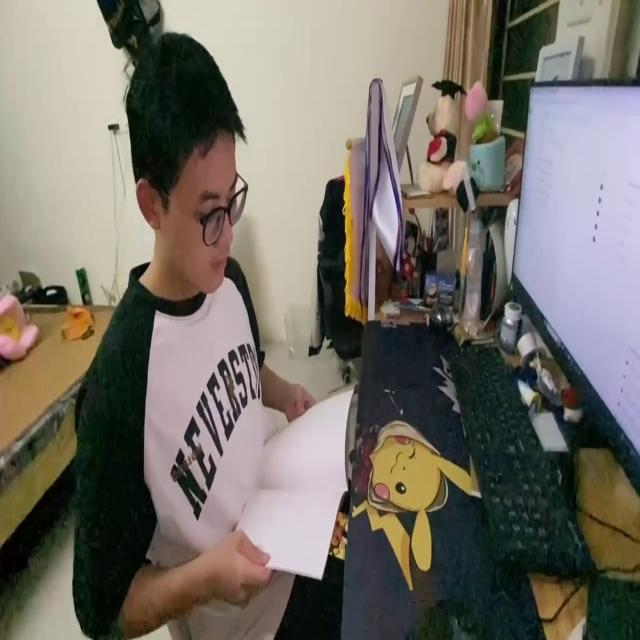book: (231, 380, 360, 592)
laptop: (506, 70, 640, 496)
phone: (330, 505, 349, 561)
student: (69, 30, 346, 640)
